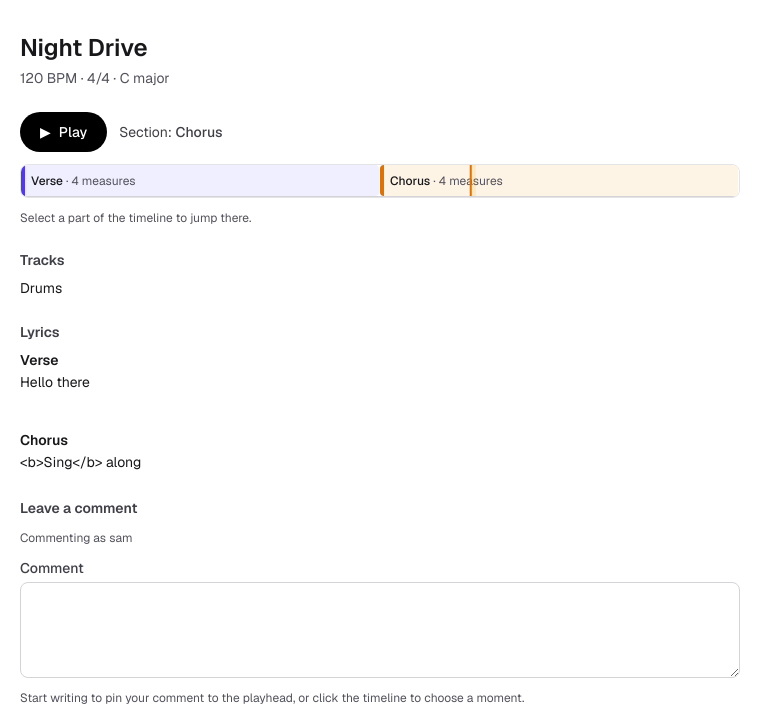
Scenario: Comments › says who is commenting, has no name field, and pins to the playhead
Expected: the heading "Night Drive" is shown, [20,32,148,63]
Expected: the text "Commenting as sam" is shown, [20,530,132,546]
Type "Love this" into the text box labelled "Comment" at (380, 630), box [20,582,740,678]
(page scrolled)
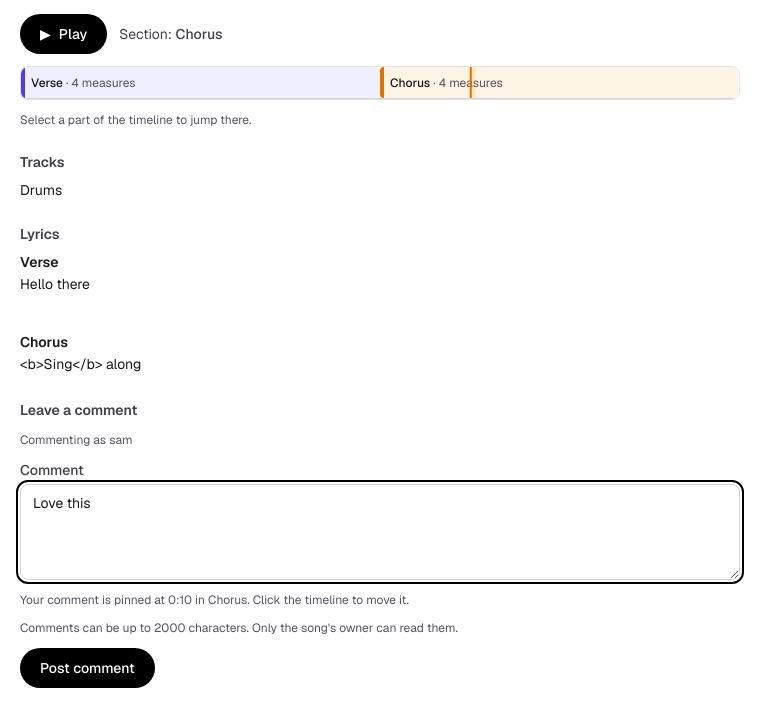
Expected: the text "pinned at 0:10 in Chorus" is shown, [20,592,409,608]
Click the button "Post comment" at (87, 668), box [20,648,155,688]
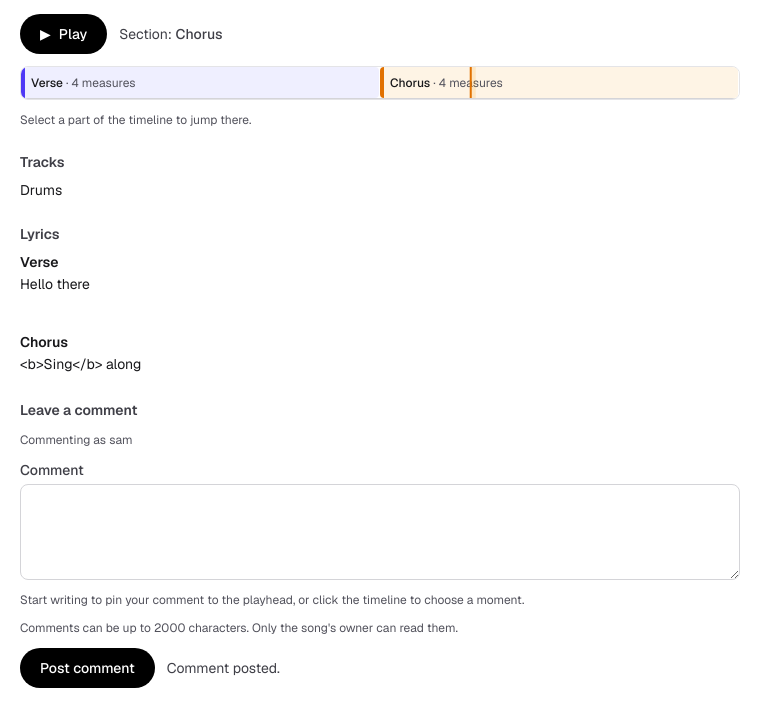
Expected: the text "Comment posted." is shown, [167,658,280,678]
